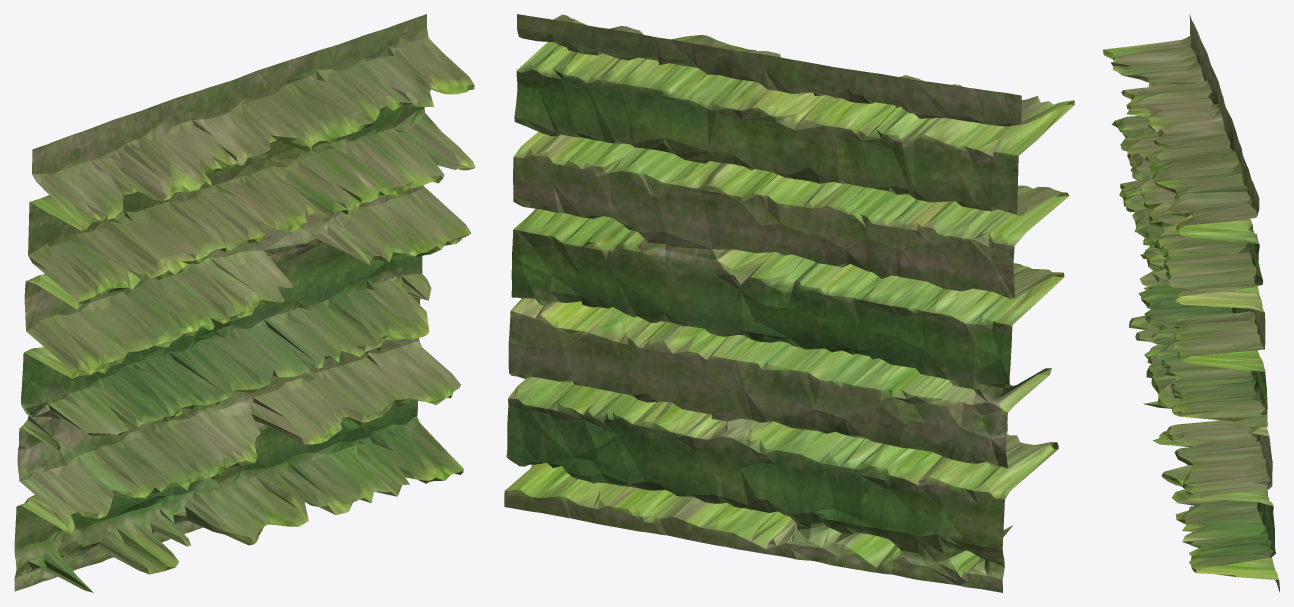
Rendered from map_180_30.obj.
3 views of the same model, side by side, from view 1: azimuth 30°, elevation 25°; view 2: azimuth 150°, elevation 25°; view 3: azimuth 270°, elevation 25° (orthographic). The views are drawn at different scales.
Parts seen in each view (by area): view 1: grp1; view 2: grp1; view 3: grp1.
Boxes of the visible parts, bbox=[...] form: grp1: bbox=[14, 14, 475, 592]; grp1: bbox=[504, 14, 1074, 592]; grp1: bbox=[1103, 14, 1279, 592].
Bounding box in the file's own units: 10 × 10 × 4.06.
Materials: 1 (1 with a texture image).
